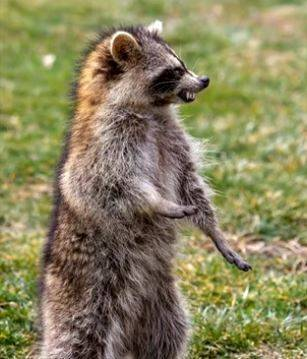raccoon: (29, 20, 255, 359)
